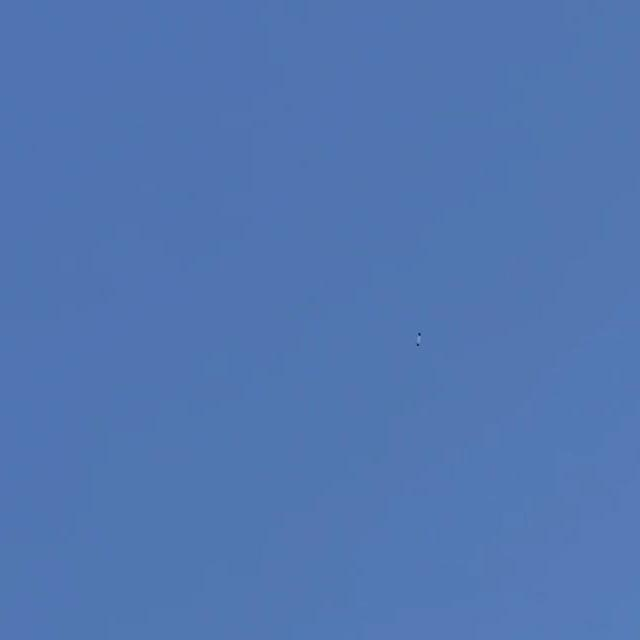rocket: (414, 332, 422, 348)
